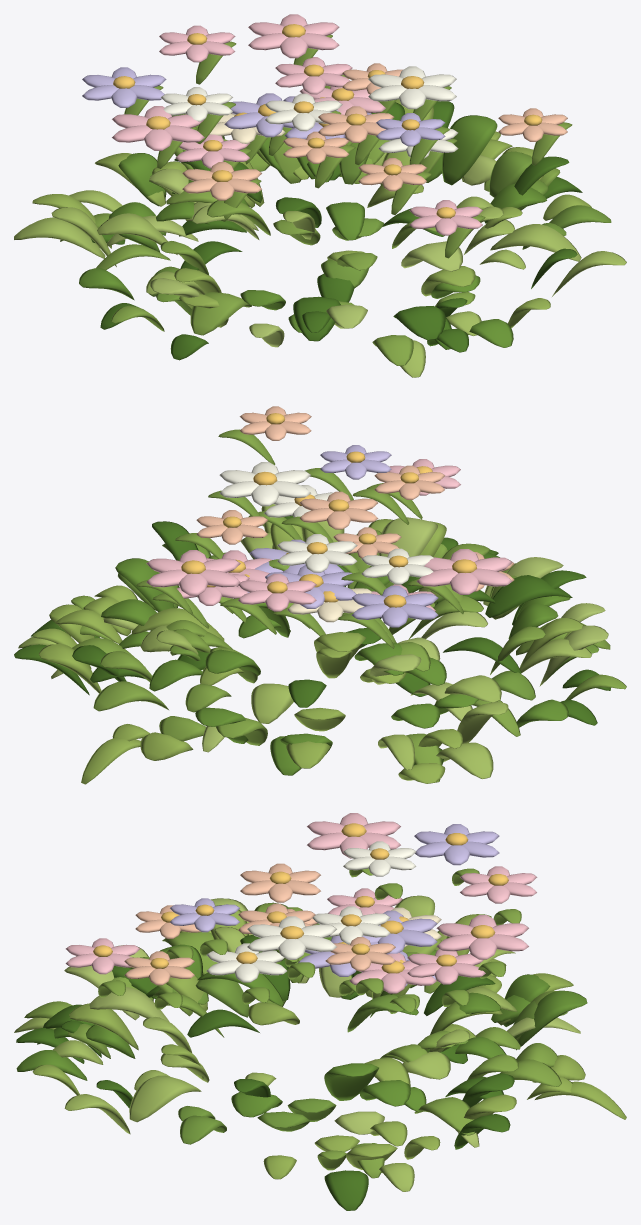
3 views of the same model, one above another, from view 1: azimuth 30°, elevation 25°; view 2: azimuth 150°, elevation 25°; view 3: azimuth 270°, elevation 25° (orthographic). The views are drawn at different scales.
Parts seen in each view (by area): view 1: 晨露混色花丛; view 2: 晨露混色花丛; view 3: 晨露混色花丛.
Part boxes in pixels (<box>): 晨露混色花丛: <box>14,14,626,377</box>; 晨露混色花丛: <box>14,406,626,784</box>; 晨露混色花丛: <box>14,813,626,1210</box>.
Size of the model in its own units: 1.43 by 0.4804 by 1.44.
